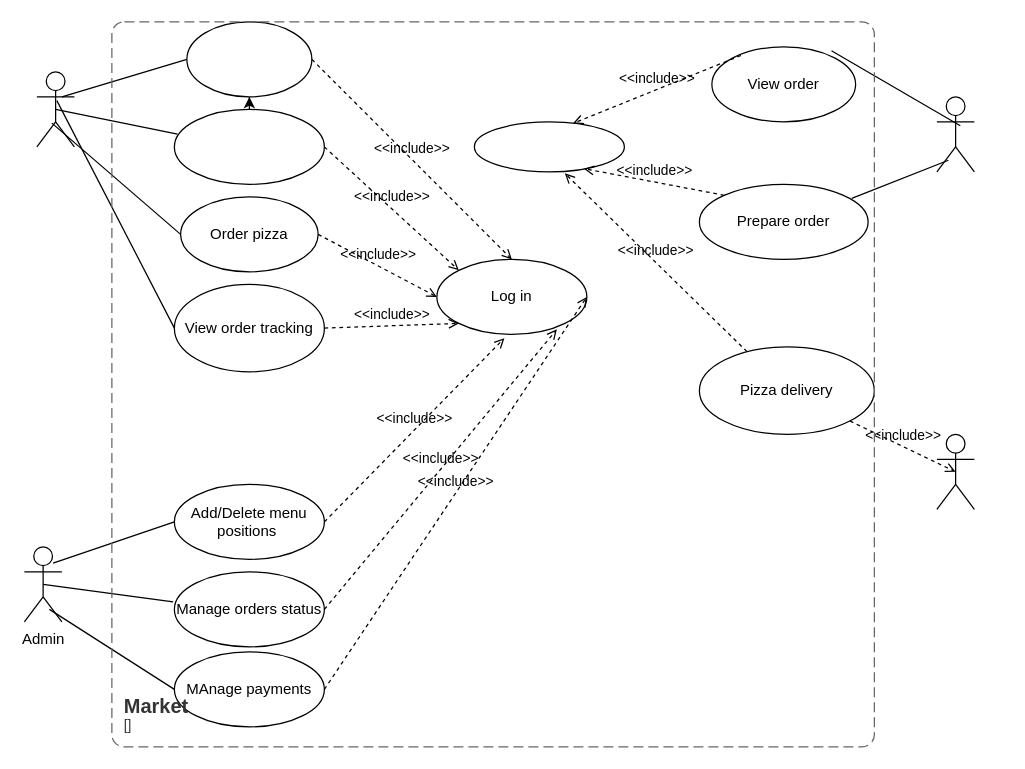
Some shapes in this 1025 by 769 pixel diagram are drawn without their labels. Here are the shapes that lost their labels. From the top down, the centre of each, then its label:
pixel 249 59: View menu
pixel 55 109: Customer
pixel 248 146: View total bill
pixel 548 146: Receive order
pixel 955 134: Chef
pixel 955 471: Delivery driver
